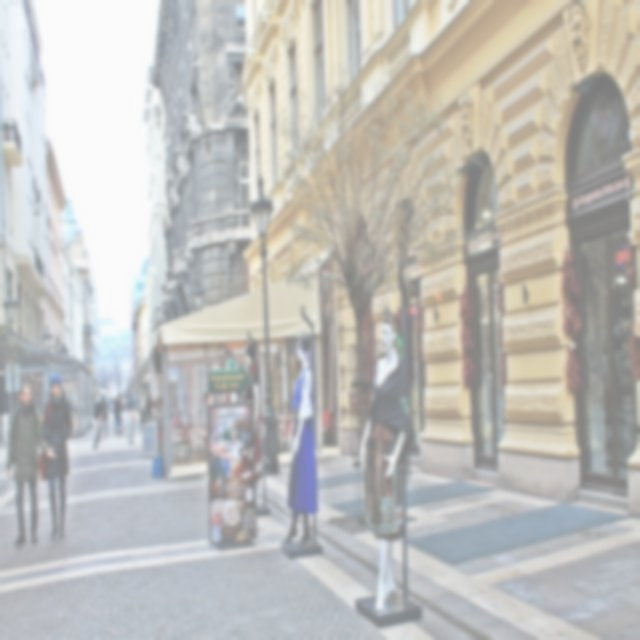pessoa: (358, 304, 412, 614), (6, 383, 56, 547), (284, 330, 320, 548), (38, 372, 74, 537), (244, 341, 264, 501), (602, 328, 626, 396), (201, 392, 214, 464), (223, 357, 237, 403), (112, 394, 121, 436), (140, 388, 148, 434), (100, 393, 108, 437), (94, 395, 102, 437), (118, 392, 124, 433), (146, 391, 152, 424), (150, 403, 163, 418), (217, 474, 223, 496), (109, 396, 115, 409), (128, 398, 132, 413), (130, 398, 134, 412), (121, 399, 125, 413), (126, 402, 130, 414)
